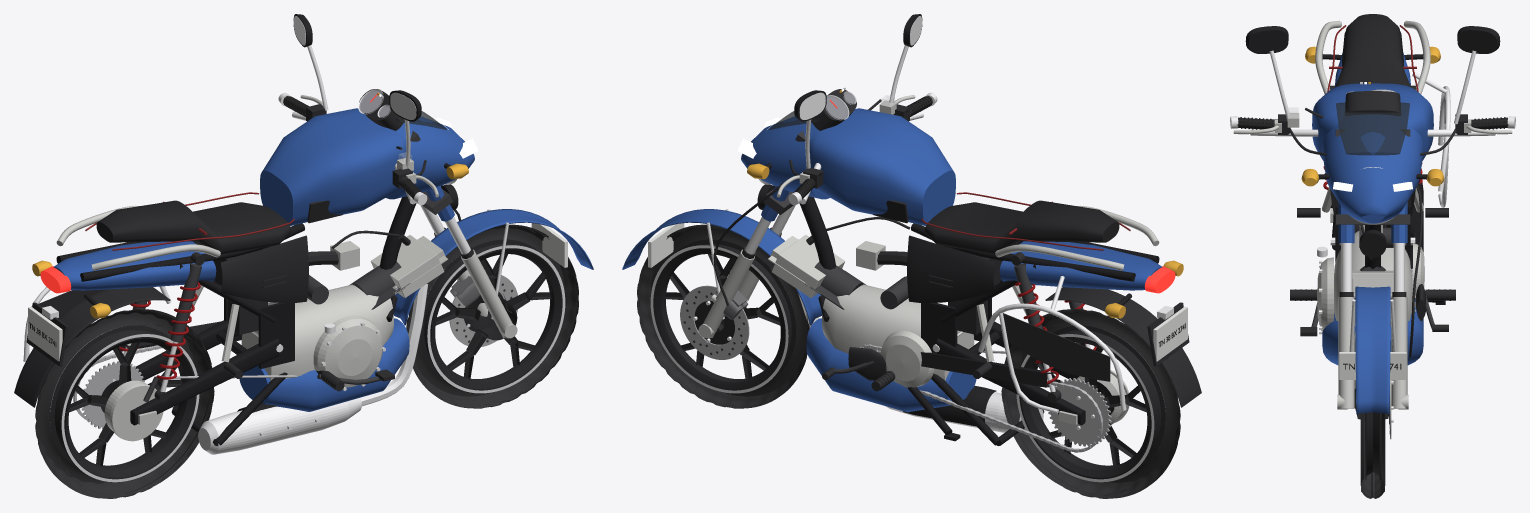
File: moto_sport.glb
3 renders of one model, left to right at view 1: azimuth 30°, elevation 25°; view 2: azimuth 150°, elevation 25°; view 3: azimuth 270°, elevation 25°, orthographic. The views are drawn at different scales.
Visible parts, largest first — view 1: Body, WR_Wheel, WF_Wheel, Handlebar, Engine, Details, Frame, Blackwork, Brightwork, Grip; view 2: Body, WR_Wheel, WF_Wheel, Blackwork, Handlebar, Engine, Details, Frame, Brightwork, Grip; view 3: Handlebar, Details, Body, Engine, Brightwork, WF_Wheel, Frame, Blackwork, Grip.
Boxes of the visible parts, bbox=[...] form: Body: bbox=[53, 108, 409, 411]; WR_Wheel: bbox=[35, 309, 214, 498]; WF_Wheel: bbox=[406, 224, 578, 408]; Handlebar: bbox=[292, 14, 593, 338]; Engine: bbox=[110, 235, 447, 441]; Details: bbox=[28, 192, 394, 421]; Frame: bbox=[56, 192, 422, 425]; Blackwork: bbox=[14, 200, 410, 445]; Brightwork: bbox=[23, 206, 428, 454]; Grip: bbox=[278, 92, 427, 205]; Body: bbox=[806, 108, 1162, 412]; WR_Wheel: bbox=[1001, 309, 1180, 498]; WF_Wheel: bbox=[637, 224, 809, 408]; Blackwork: bbox=[806, 200, 1201, 445]; Handlebar: bbox=[622, 14, 923, 338]; Engine: bbox=[768, 235, 1129, 422]; Details: bbox=[822, 192, 1187, 452]; Frame: bbox=[793, 192, 1159, 425]; Brightwork: bbox=[798, 206, 1173, 432]; Grip: bbox=[788, 92, 937, 205]; Handlebar: bbox=[1233, 26, 1512, 413]; Details: bbox=[1290, 14, 1455, 336]; Body: bbox=[1312, 53, 1433, 365]; Engine: bbox=[1317, 225, 1424, 331]; Brightwork: bbox=[1315, 20, 1450, 388]; WF_Wheel: bbox=[1354, 380, 1393, 498]; Frame: bbox=[1322, 31, 1423, 299]; Blackwork: bbox=[1311, 85, 1445, 329]; Grip: bbox=[1230, 116, 1515, 129].
Bounding box in the file's own units: 1.96 × 1.28 × 0.8448.
